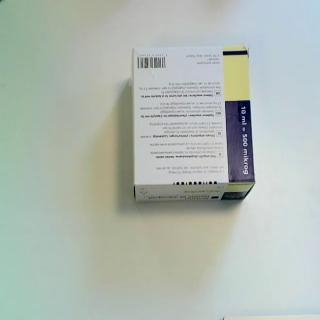fentanyl50ug_ml: (130, 44, 258, 205)
